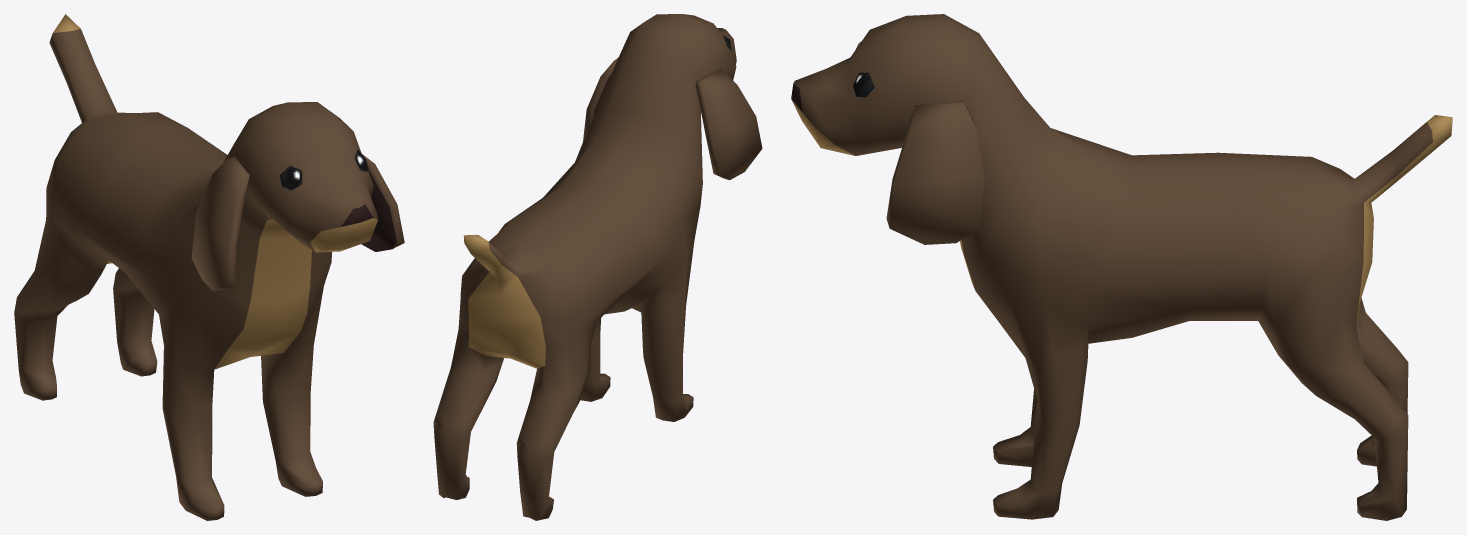
The model's file is eddb8a0a-ddd7-47cc-bce8-c42a22340769.glb.
3 views of the same model, side by side, from view 1: azimuth 30°, elevation 25°; view 2: azimuth 150°, elevation 25°; view 3: azimuth 270°, elevation 25° (orthographic). The views are drawn at different scales.
Parts seen in each view (by area): view 1: Dog; view 2: Dog; view 3: Dog.
Boxes of the visible parts, x1,y1,x2,y2 form: Dog: [14, 14, 404, 520]; Dog: [433, 14, 762, 520]; Dog: [791, 14, 1452, 520].
Size of what is drawn, in the model's own units: 0.3377 by 0.7546 by 0.9751.
Materials: 1 (1 with a texture image).
